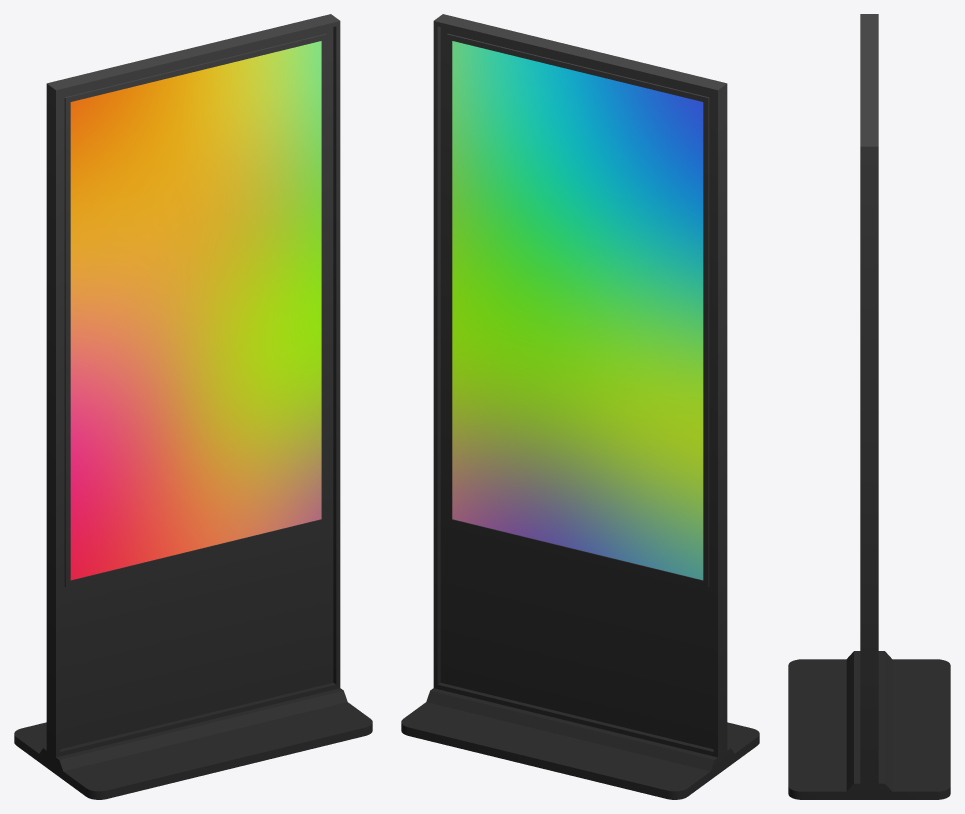
File: digital_information_kiosk_01_large.glb
The picture shows the model from 3 angles, left to right: view 1: azimuth 30°, elevation 25°; view 2: azimuth 150°, elevation 25°; view 3: azimuth 270°, elevation 25°; orthographic projection. The views are drawn at different scales.
Visible parts, largest first — view 1: digital_information_kiosk_01_large; view 2: digital_information_kiosk_01_large; view 3: digital_information_kiosk_01_large.
Boxes of the visible parts, x1,y1,x2,y2 form: digital_information_kiosk_01_large: (14,14,372,799); digital_information_kiosk_01_large: (401,14,759,799); digital_information_kiosk_01_large: (788,14,950,799).
Bounding box in the file's own units: 0.87 × 2 × 0.45.
Materials: 2 (2 with a texture image).
